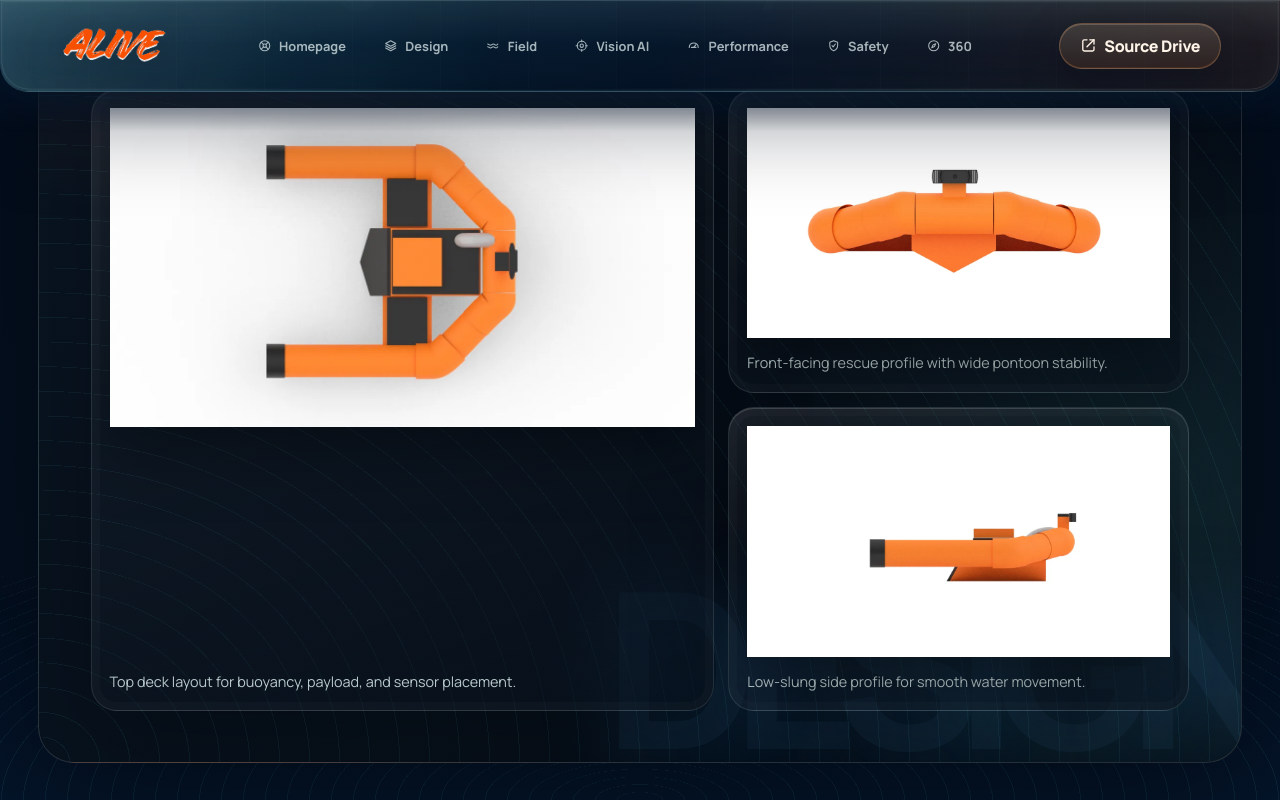
it: ALIVE project showcase › opens clicked showcase images in a popup preview and closes it with Escape
The image size is (1280, 800).
Click the picture with alt text "Top view render of ALIVE lifeboat design".
click(402, 267)  # box [110,108,695,427]
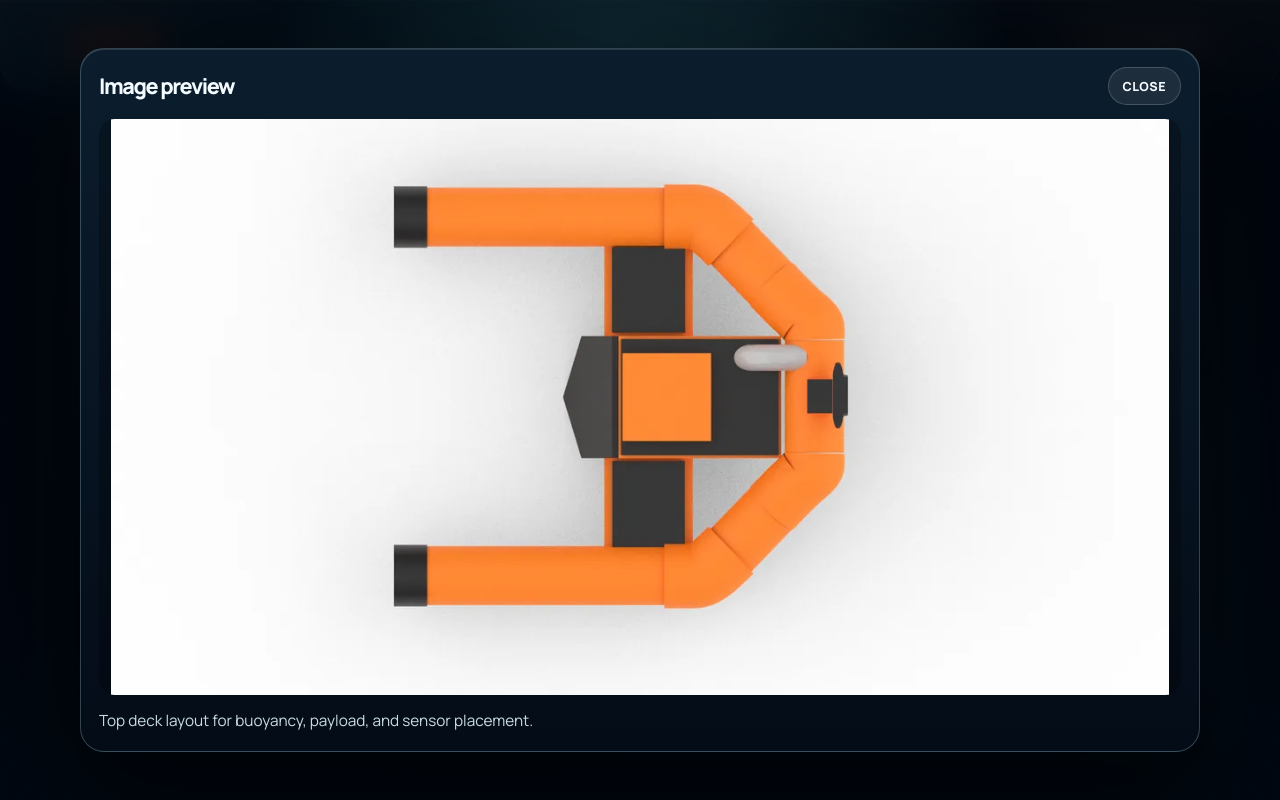
Expected: the dialog "Image preview" is shown
Expected: the text "Top deck layout for buoyancy, payload, and sensor placement." is shown, [99,710,533,731]
Press Escape
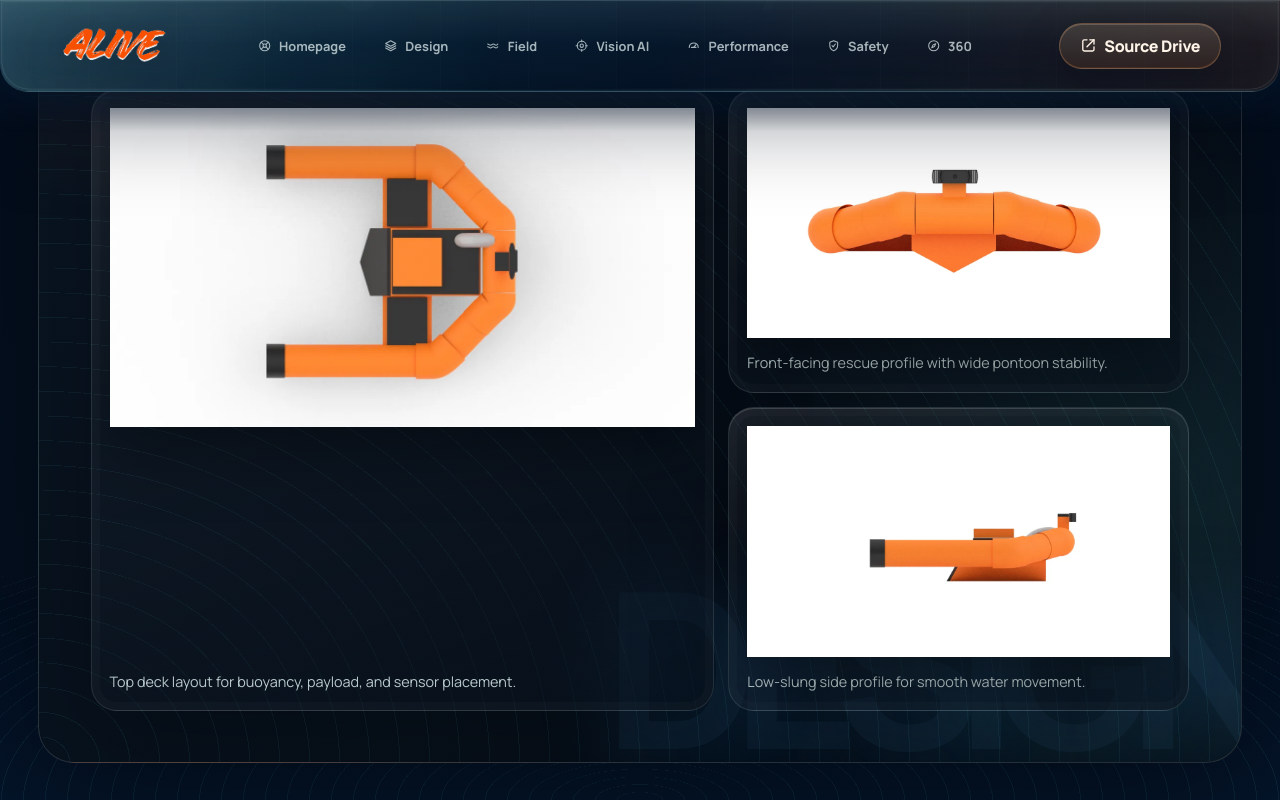
Expected: the heading "Image preview" is gone
